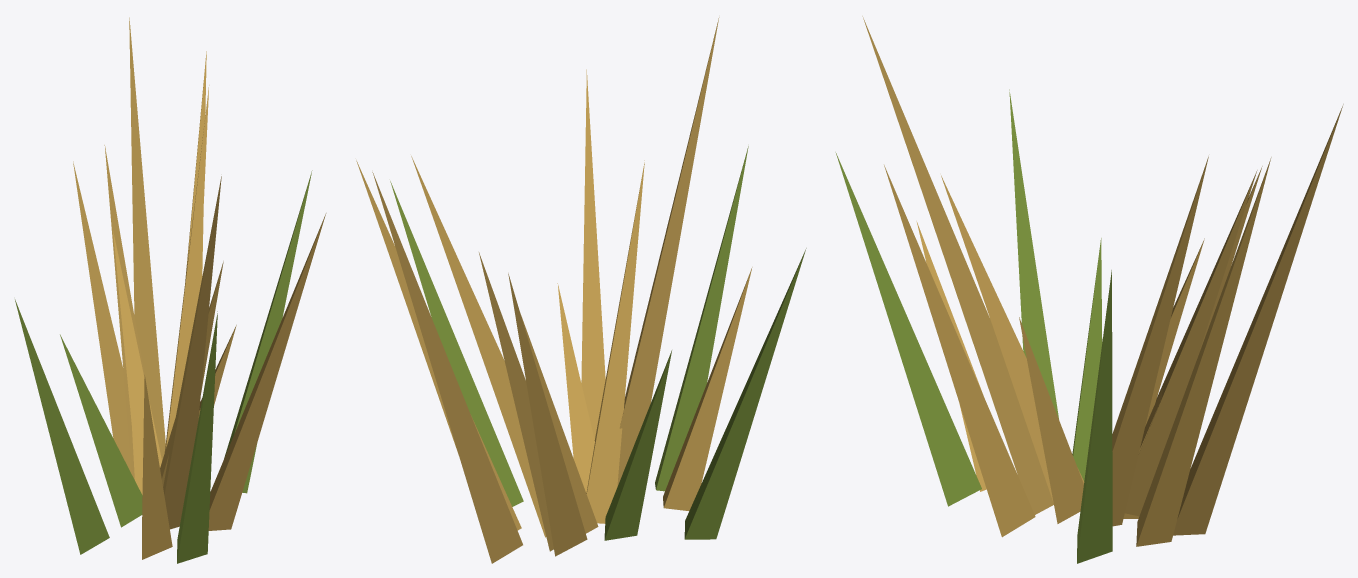
File: grastuva_1.glb
3 renders of one model, left to right at view 1: azimuth 30°, elevation 25°; view 2: azimuth 150°, elevation 25°; view 3: azimuth 270°, elevation 25°, orthographic. The views are drawn at different scales.
Parts seen in each view (by area): view 1: grastuva_1; view 2: grastuva_1; view 3: grastuva_1.
Boxes of the visible parts, x1,y1,x2,y2 form: grastuva_1: (15, 17, 326, 563); grastuva_1: (356, 17, 806, 563); grastuva_1: (835, 16, 1343, 563).
Bounding box in the file's own units: 0.6755 × 0.7869 × 0.7486.
